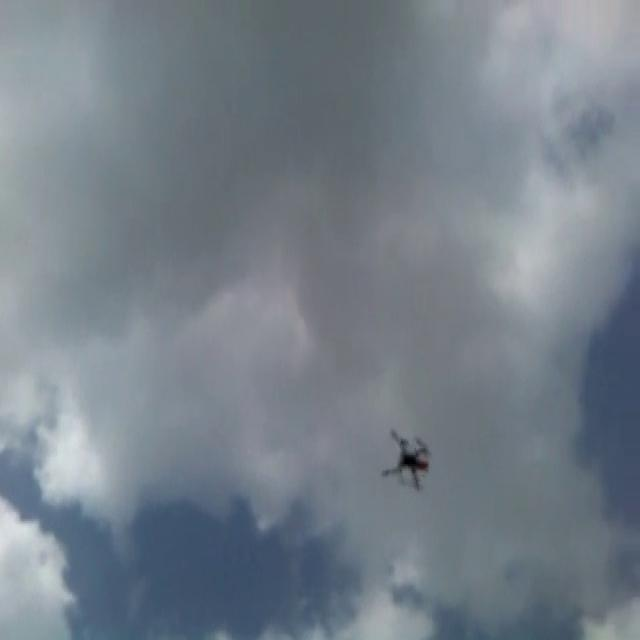drone: (380, 420, 431, 496)
